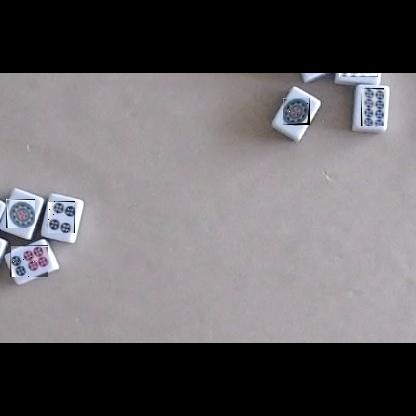1p: (6, 199, 35, 228), (283, 98, 310, 125)
4p: (48, 201, 75, 233)
6p: (10, 245, 48, 277)
8p: (361, 88, 384, 126), (339, 73, 378, 77)
